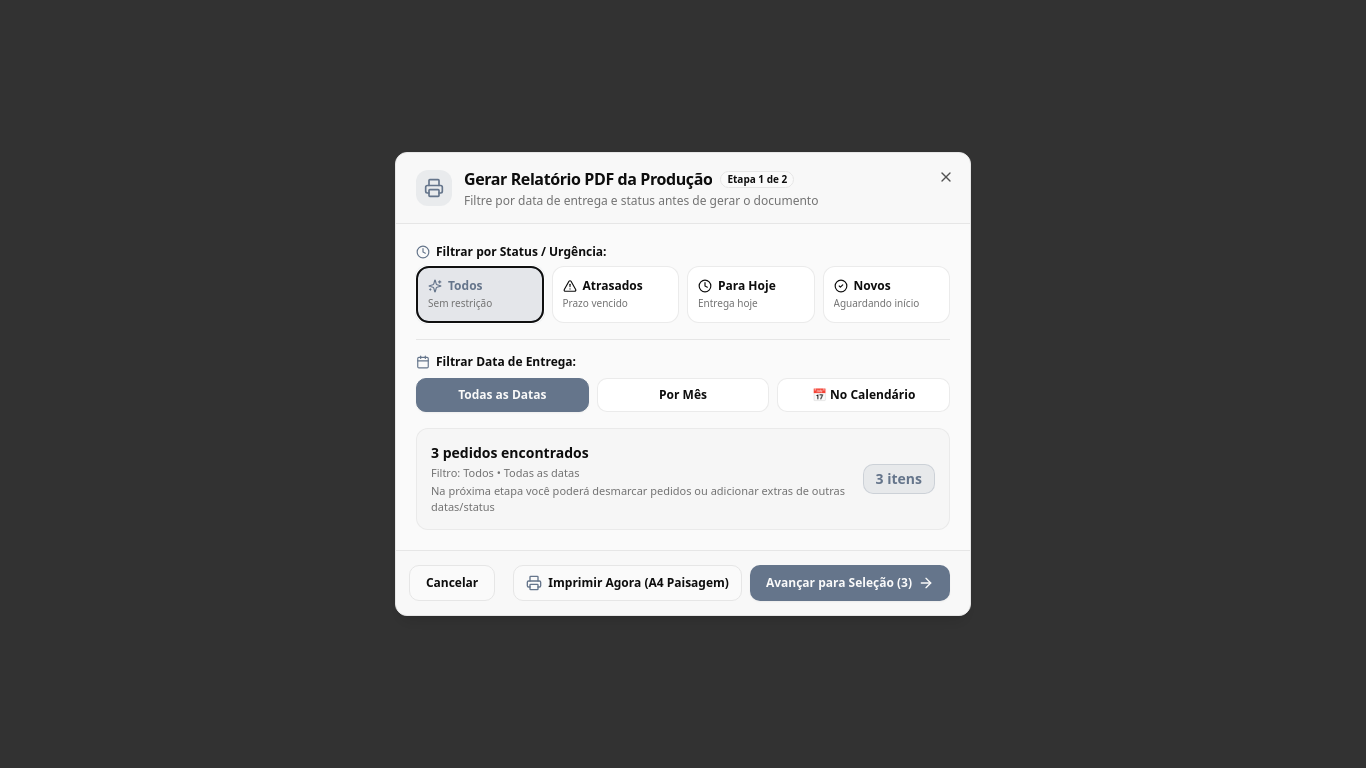
Scenario: ModalImpressaoDashboard › deve permitir filtrar por mês e adicionar pedidos de outras datas na Etapa 2
The width and height of the screenshot is (1366, 768).
Note: Seleciona filtro Por Mês na Etapa 1
Click the button "Por Mês": (683, 395) [597,378,769,412]
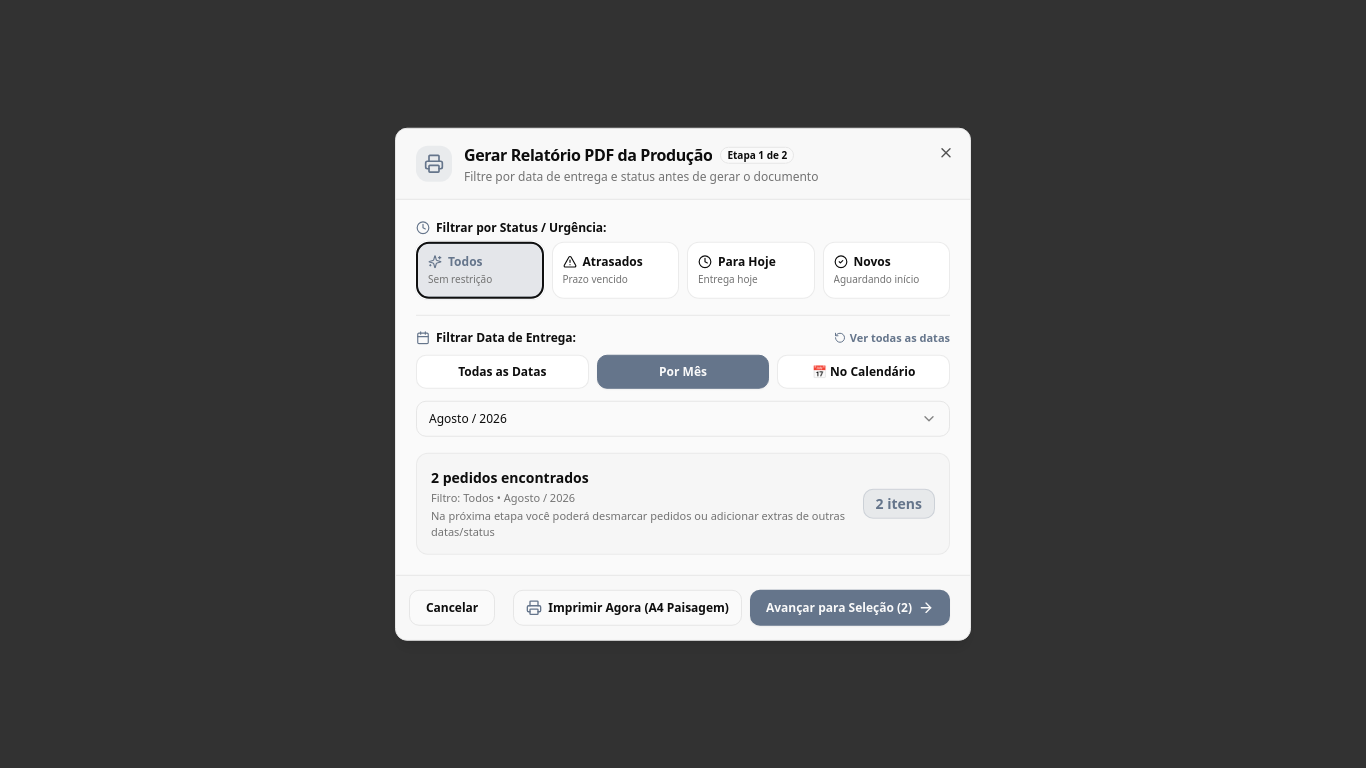
Note: Avança para a Etapa 2
Click the button "Avançar para Seleção (2)": (850, 607) [750,589,950,625]
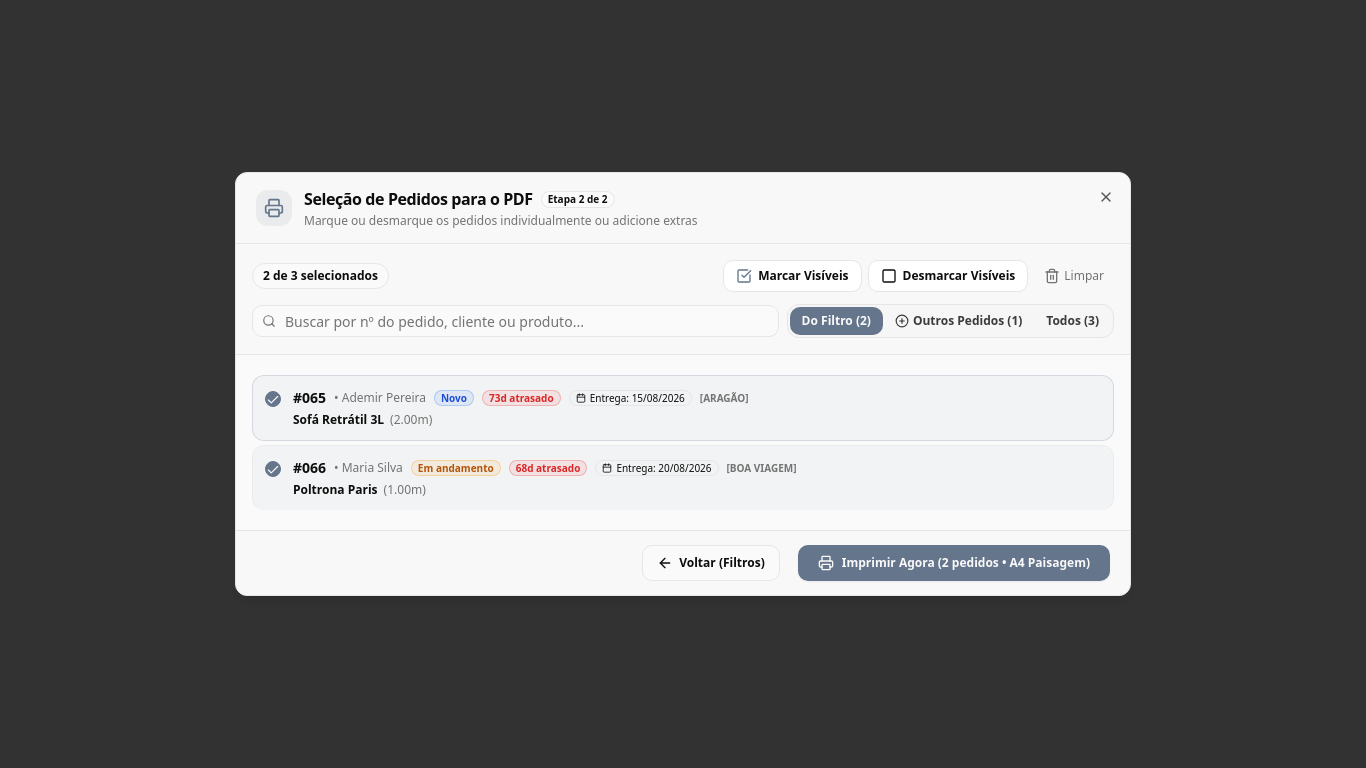
Note: Alterna para a aba Outros Pedidos
Click the button "Outros Pedidos (1)": (959, 321) [883,307,1034,335]
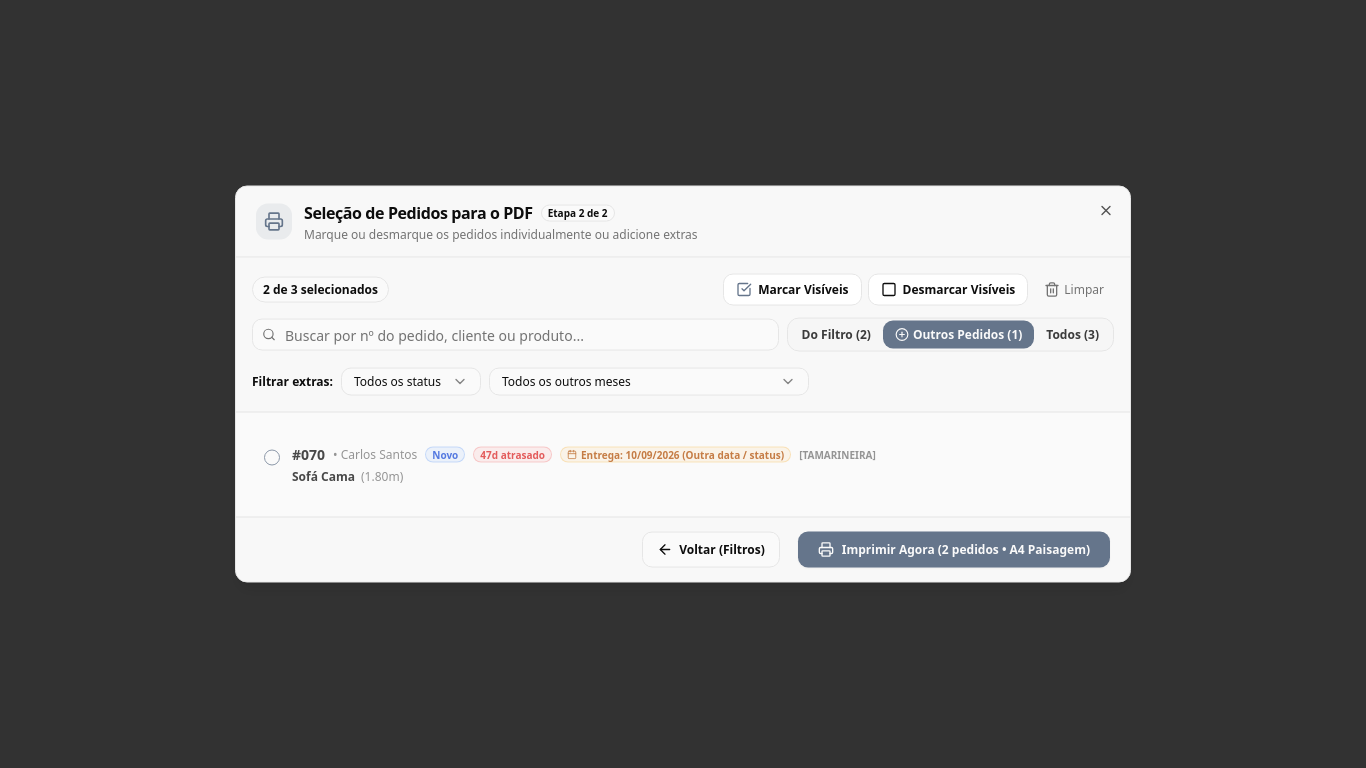
Expected: the text "#070" is shown, [292,444,325,464]
Note: Marca o pedido #070
Click the checkbox named "Selecionar pedido #70": (272, 458) [264,450,280,466]
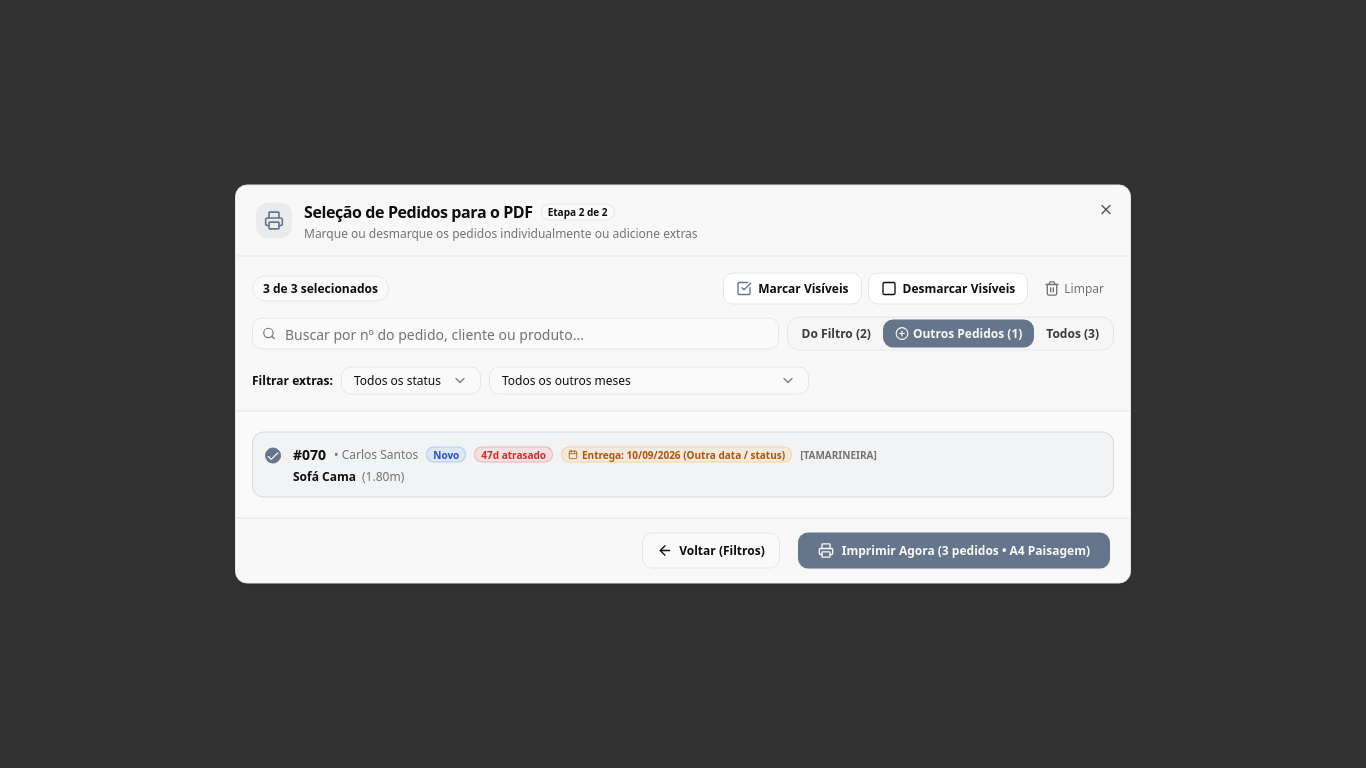
Note: Volta para a Etapa 1 e verifica se manteve integridade
Click the button "Voltar (Filtros)": (711, 550) [642,532,780,568]
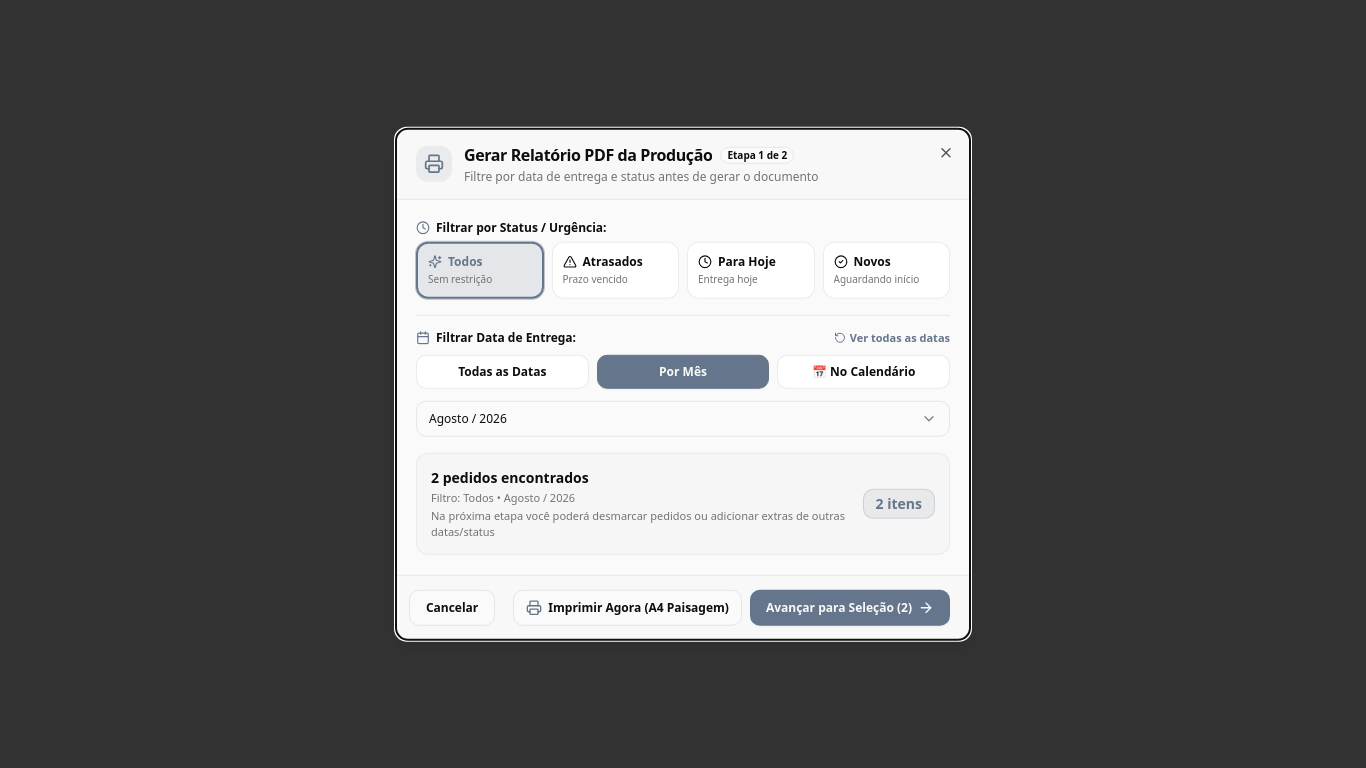
Expected: the text "Filtrar Data de Entrega:" is shown, [416,330,576,346]
